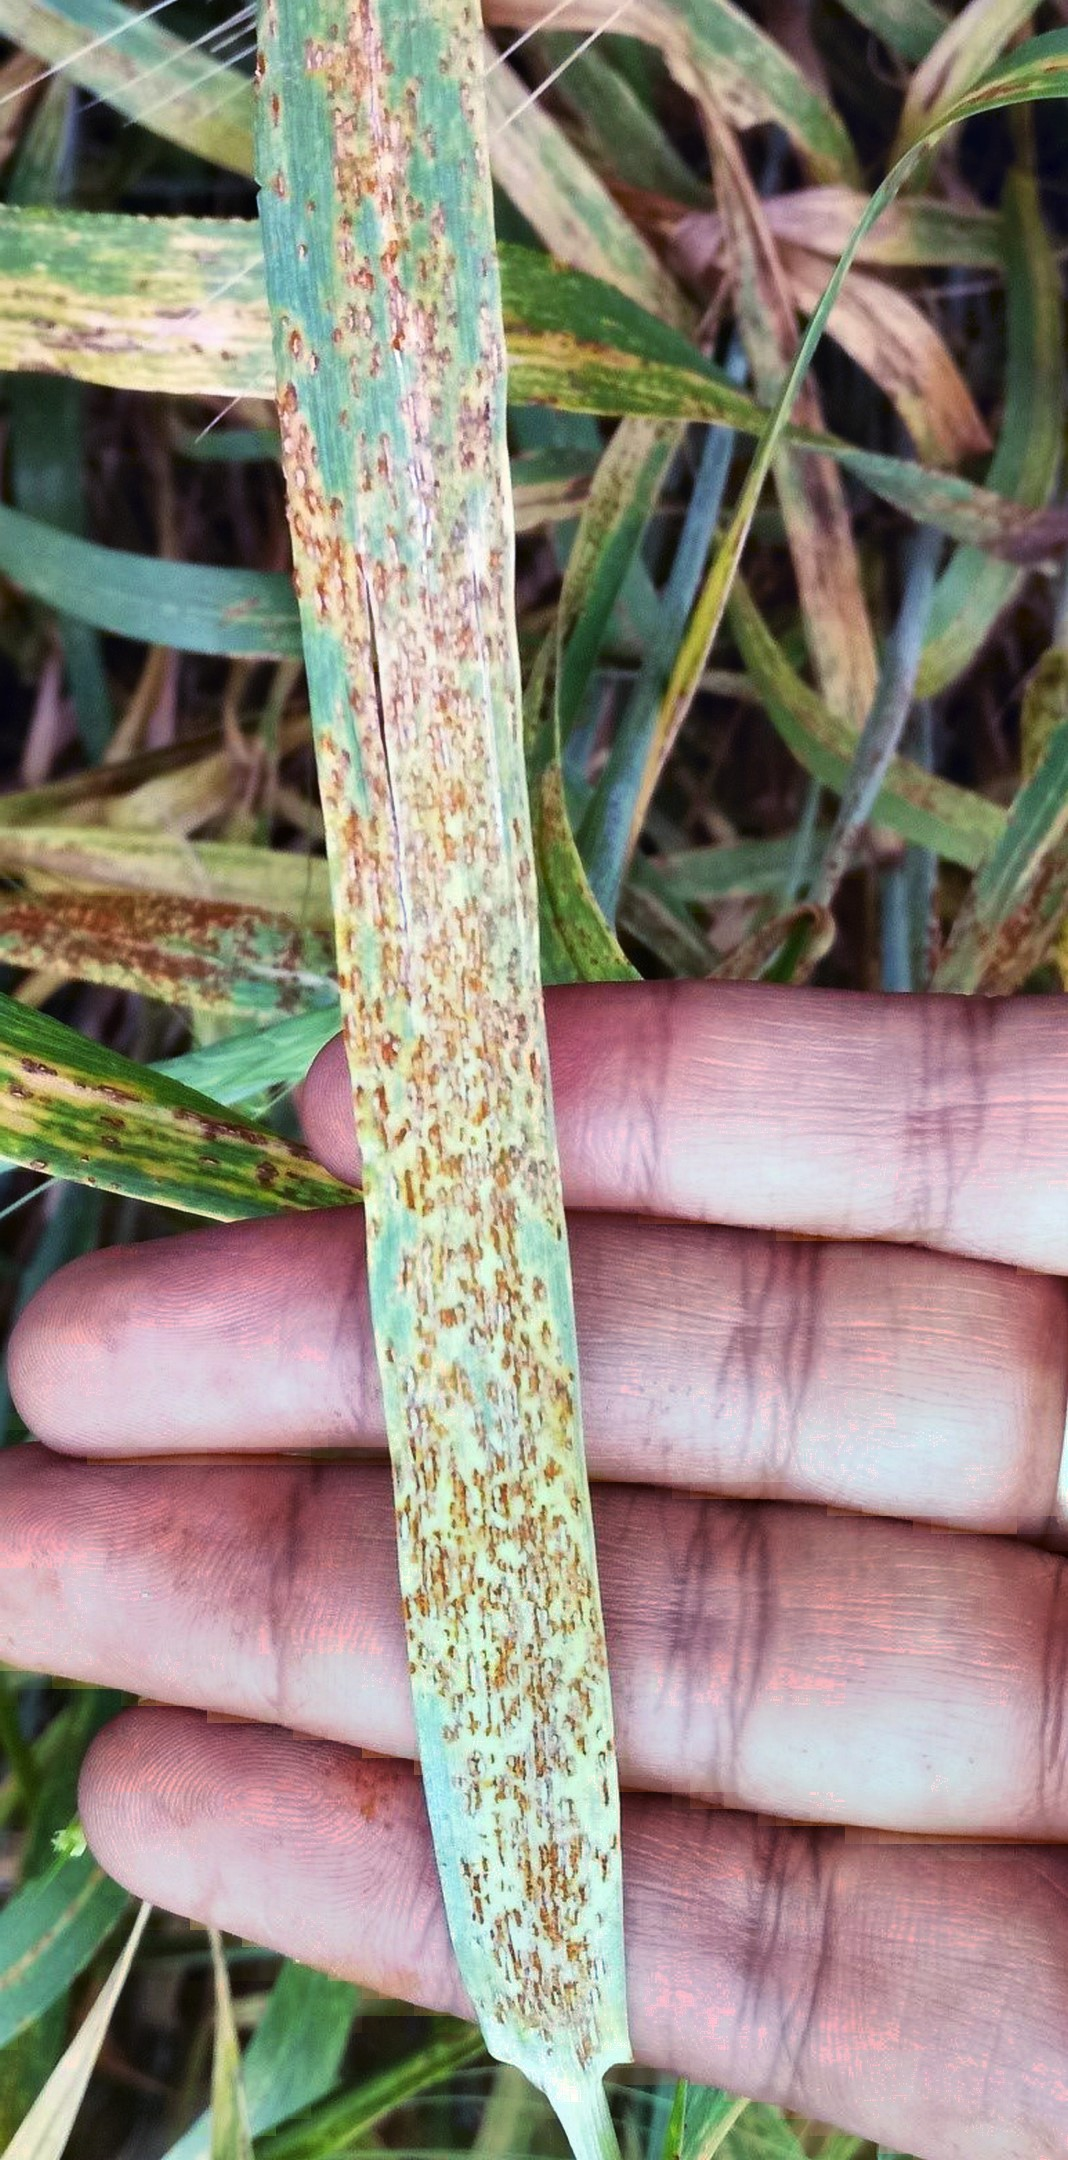Leaf Rust: (249, 107, 626, 2031)
